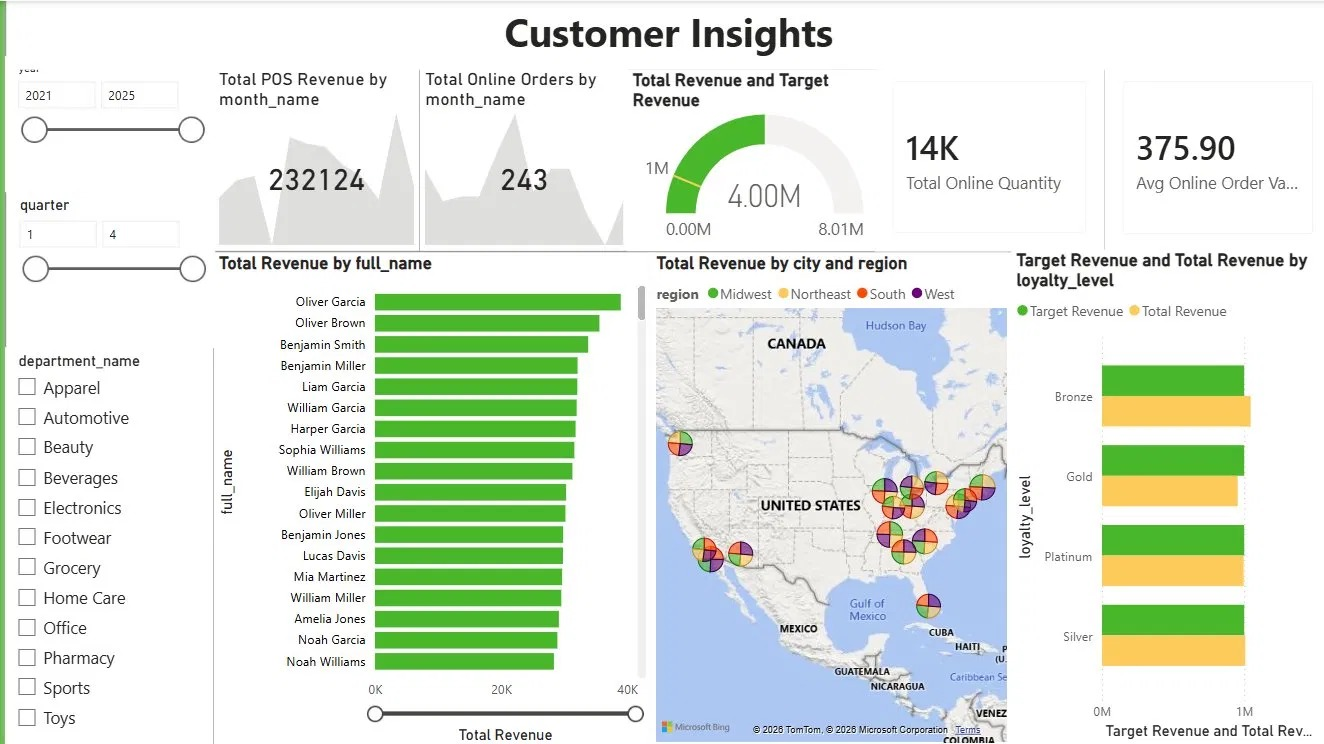

The dashboard page shown, as its layout file describes it:
{"tool":"powerbi","page":{"name":"Customer Insights","canvas":[1280,720],"ordinal":3},"visuals":[{"type":"slicer","fields":{"Values":["gold dim_product.department_name"]},"box":[0,334.6,201,385.8],"z":0},{"type":"slicer","fields":{"Values":["gold dim_date.year"]},"box":[0,52.6,201,130.9],"z":1000},{"type":"slicer","fields":{"Values":["gold dim_date.quarter"]},"box":[1.3,183.5,201,151.1],"z":2000},{"type":"textbox","box":[1.3,0,1278.9,66.1],"z":3000},{"type":"cardVisual","fields":{"Data":["Measures (2).Total Online Quantity"]},"box":[840,60,221.4,181.4],"z":4000},{"type":"cardVisual","fields":{"Data":["Measures (2).Avg Online Order Value"]},"box":[1061.4,60,218.6,182.9],"z":5000},{"type":"kpi","fields":{"Indicator":["Measures (2).Total POS Revenue"],"TrendLine":["gold dim_date.month_name"]},"box":[201.4,65.7,198.6,175.7],"z":6000},{"type":"kpi","fields":{"TrendLine":["gold dim_date.month_name"],"Indicator":["Measures (2).Total Online Orders"]},"box":[400,65.7,201.4,175.7],"z":7000},{"type":"gauge","fields":{"Y":["Measures (2).Total Revenue"],"TargetValue":["Measures (2).Target Revenue"]},"box":[600.3,66.1,240.1,175.4],"z":8000},{"type":"barChart","fields":{"Category":["gold dim_customer.full_name"],"Y":["Measures (2).Total Revenue"]},"box":[201,242.8,422.3,477.6],"z":9000},{"type":"clusteredBarChart","fields":{"Category":["gold dim_customer.loyalty_level"],"Y":["Measures (2).Target Revenue","Measures (2).Total Revenue"]},"box":[971.2,240.1,307.6,477.8],"z":10000},{"type":"map","fields":{"Category":["gold dim_customer.city"],"Size":["Measures (2).Total Revenue"],"Series":["gold dim_store.region Hierarchy.region"]},"box":[623.3,242.8,348.1,477.6],"z":11000}]}

Visuals, with their boxes in screenshot pixels (x1, y1, x2, y2), scaled from the page's 1280x720 canvas onto the 1324x744 screenshot:
slicer - gold dim_product.department_name: [left=0, top=346, right=208, bottom=743]
slicer - gold dim_date.year: [left=0, top=54, right=208, bottom=190]
slicer - gold dim_date.quarter: [left=1, top=190, right=209, bottom=346]
textbox: [left=1, top=0, right=1323, bottom=68]
cardVisual - Measures (2).Total Online Quantity: [left=869, top=62, right=1098, bottom=249]
cardVisual - Measures (2).Avg Online Order Value: [left=1098, top=62, right=1323, bottom=251]
kpi - Measures (2).Total POS Revenue x gold dim_date.month_name: [left=208, top=68, right=414, bottom=249]
kpi - gold dim_date.month_name x Measures (2).Total Online Orders: [left=414, top=68, right=622, bottom=249]
gauge - Measures (2).Total Revenue x Measures (2).Target Revenue: [left=621, top=68, right=869, bottom=250]
barChart - gold dim_customer.full_name x Measures (2).Total Revenue: [left=208, top=251, right=645, bottom=743]
clusteredBarChart - gold dim_customer.loyalty_level x Measures (2).Target Revenue: [left=1005, top=248, right=1323, bottom=742]
map - gold dim_customer.city x Measures (2).Total Revenue: [left=645, top=251, right=1005, bottom=743]
